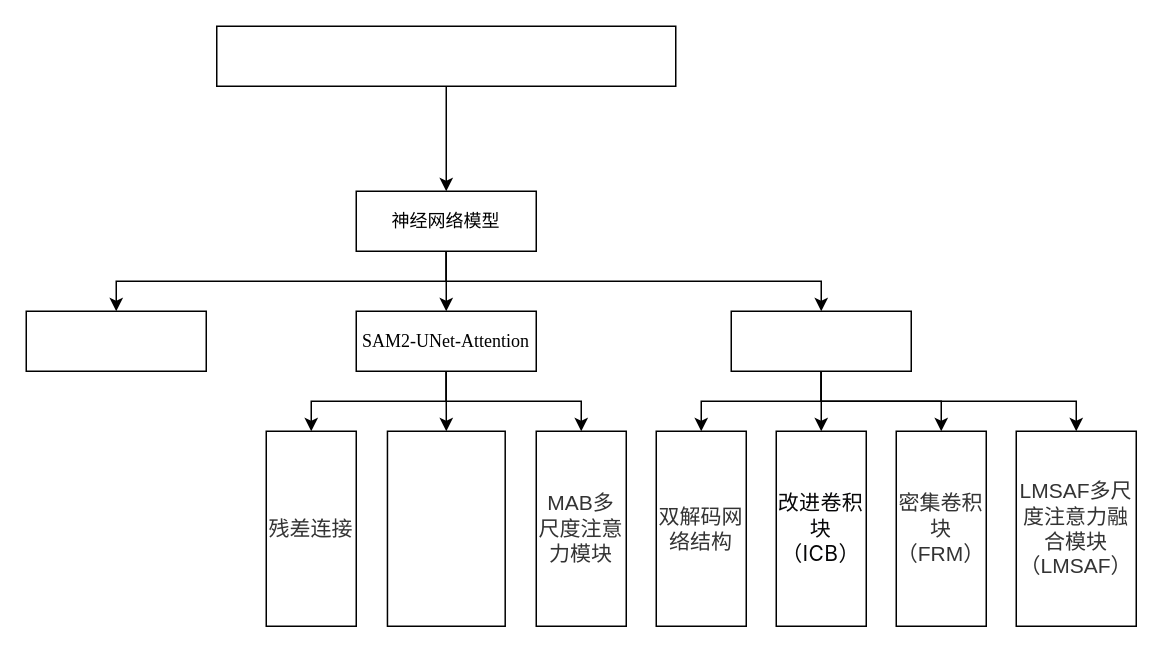
Image size: 1163x653. Some labels were removed from this diagram. The shapes that lost their labels are listed below. From the top down, each one's centre as x and y in pixels, then its label:
the point at 445,55: 视网灵眸 ——智能化视网膜筛查与影像分析系统
the point at 115,340: U-Net
the point at 820,340: LM S FR-Net
the point at 445,528: 轻量级Prompt适应层（Adapter）
